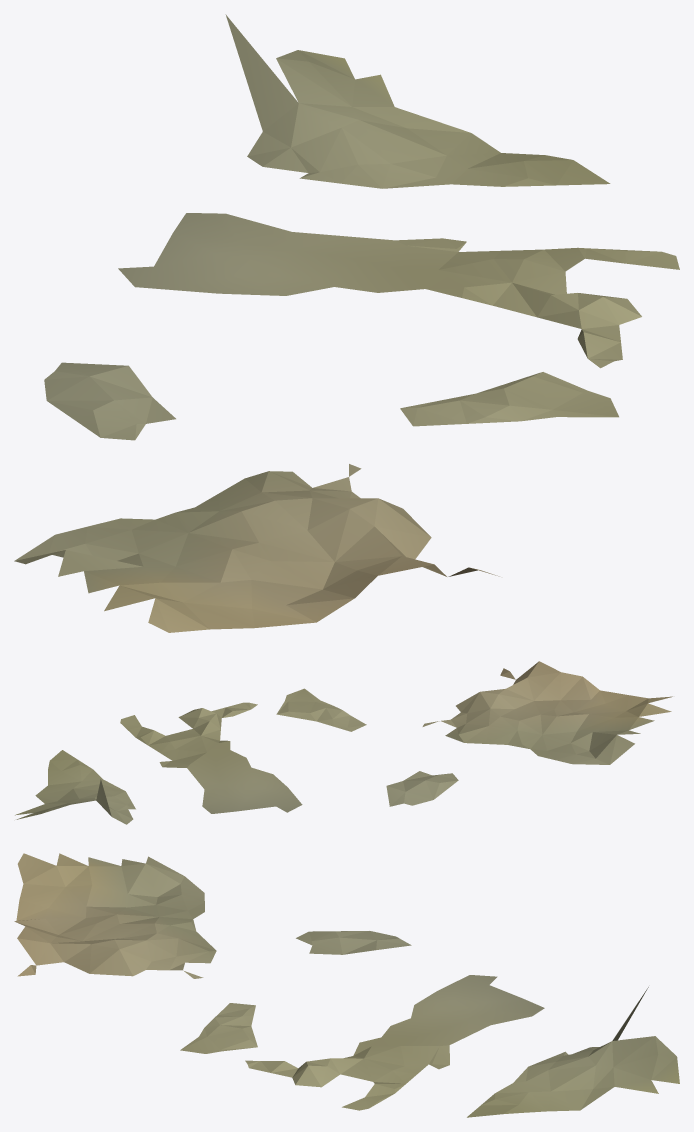
3 views of the same model, one above another, from view 1: azimuth 30°, elevation 25°; view 2: azimuth 150°, elevation 25°; view 3: azimuth 270°, elevation 25° (orthographic). The views are drawn at different scales.
Parts seen in each view (by area): view 1: 亚平宁石岭; view 2: 亚平宁石岭; view 3: 亚平宁石岭.
Part boxes in pixels (x1,y1,x2,y2): 亚平宁石岭: (14, 14, 679, 632); 亚平宁石岭: (15, 661, 672, 824); 亚平宁石岭: (14, 853, 679, 1117).
Bounding box in the file's own units: 12.48 × 1.71 × 14.22.
